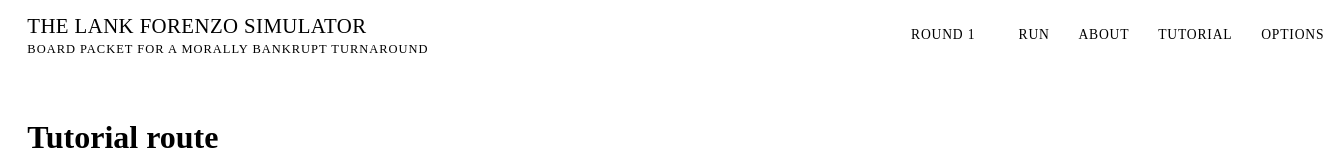
Test: AppShell › returns players to the run route from secondary pages
The image size is (1340, 165).
Step 1. Click the link "Run" → {"x": 1034, "y": 35}, box top-left (1018, 27), bottom-right (1050, 42)
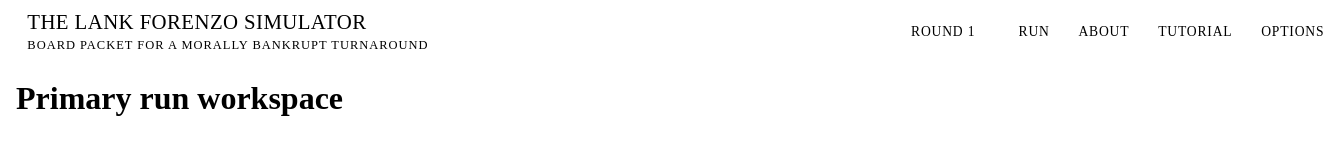
Expected: the heading "Primary run workspace" is shown, top-left (16, 80), bottom-right (343, 116)
